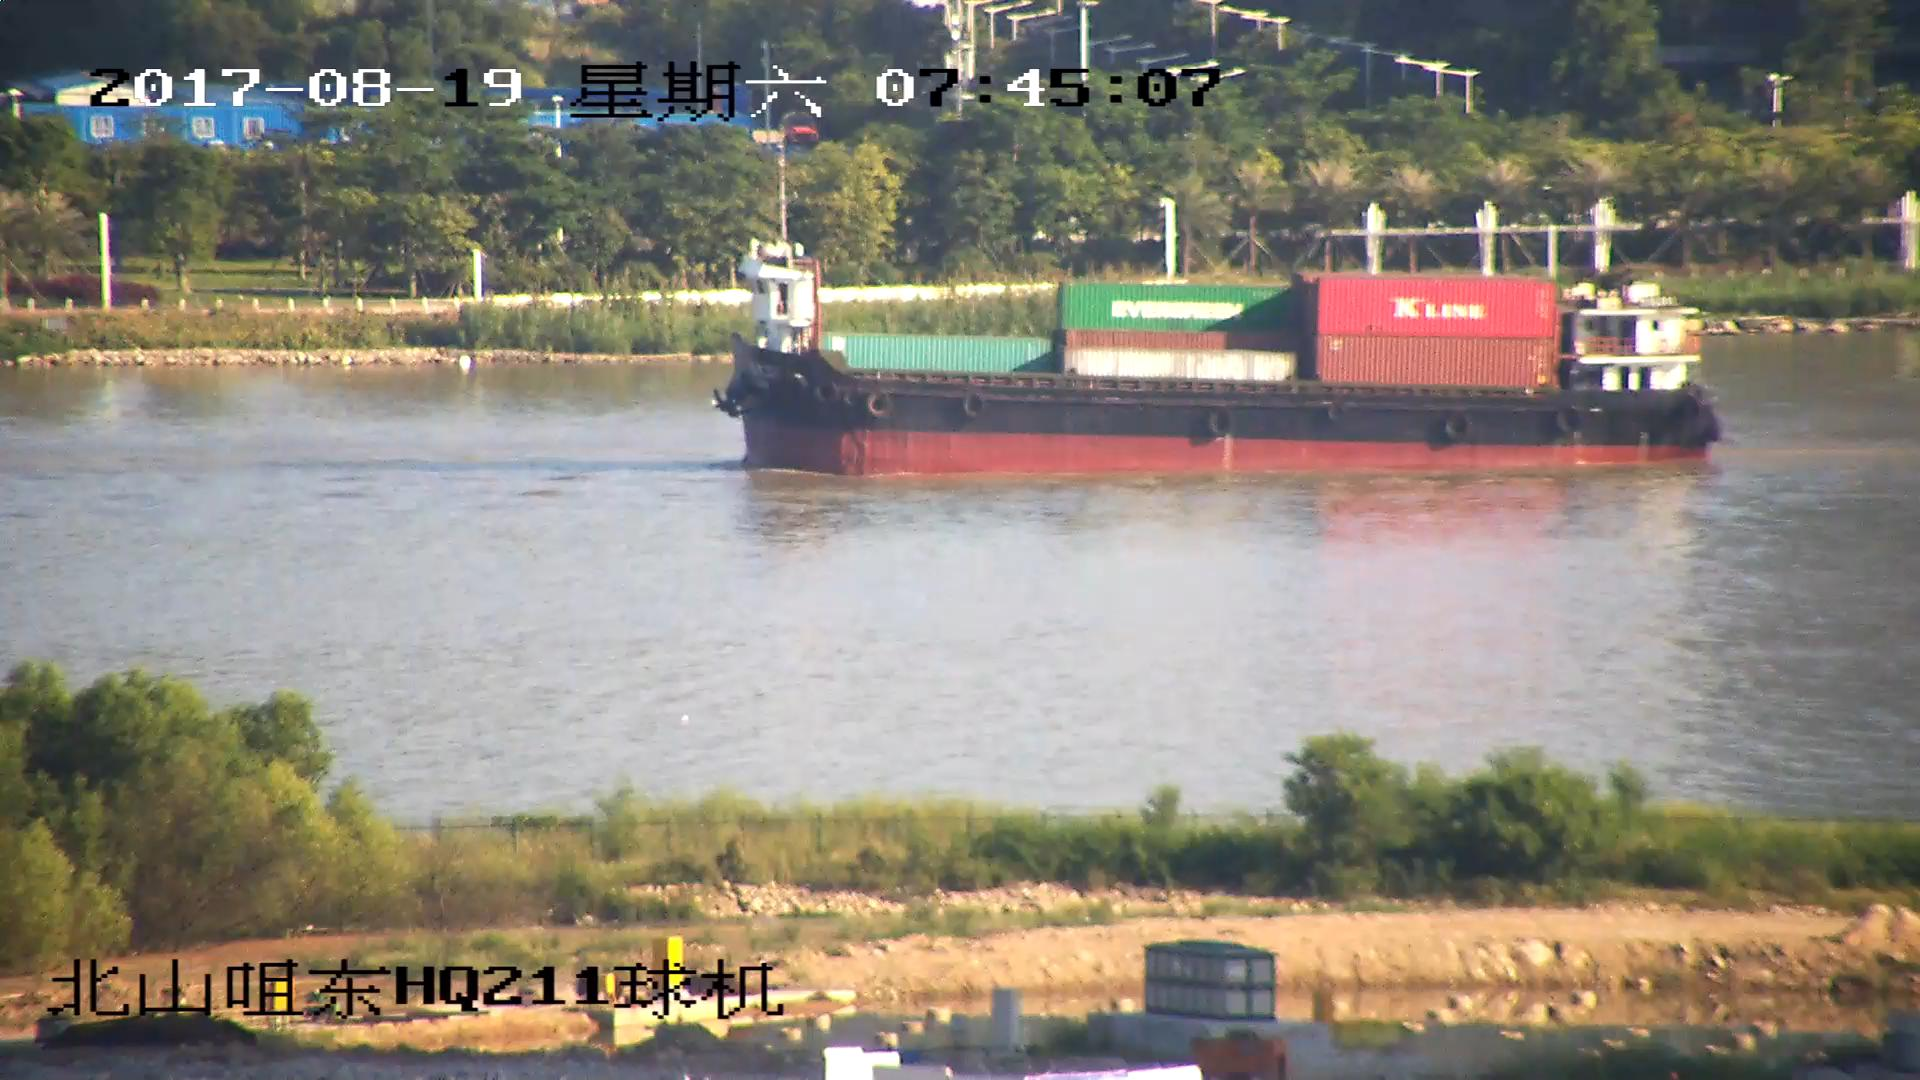container ship: (699, 133, 1727, 477)
